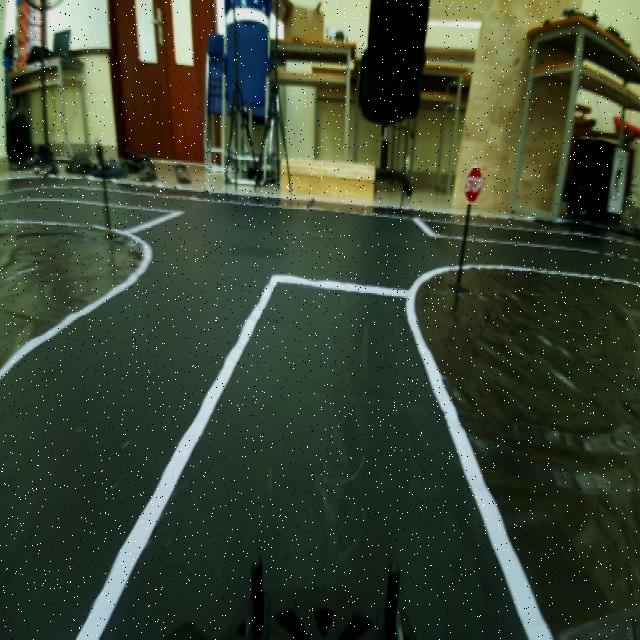stop: (460, 155, 488, 211)
